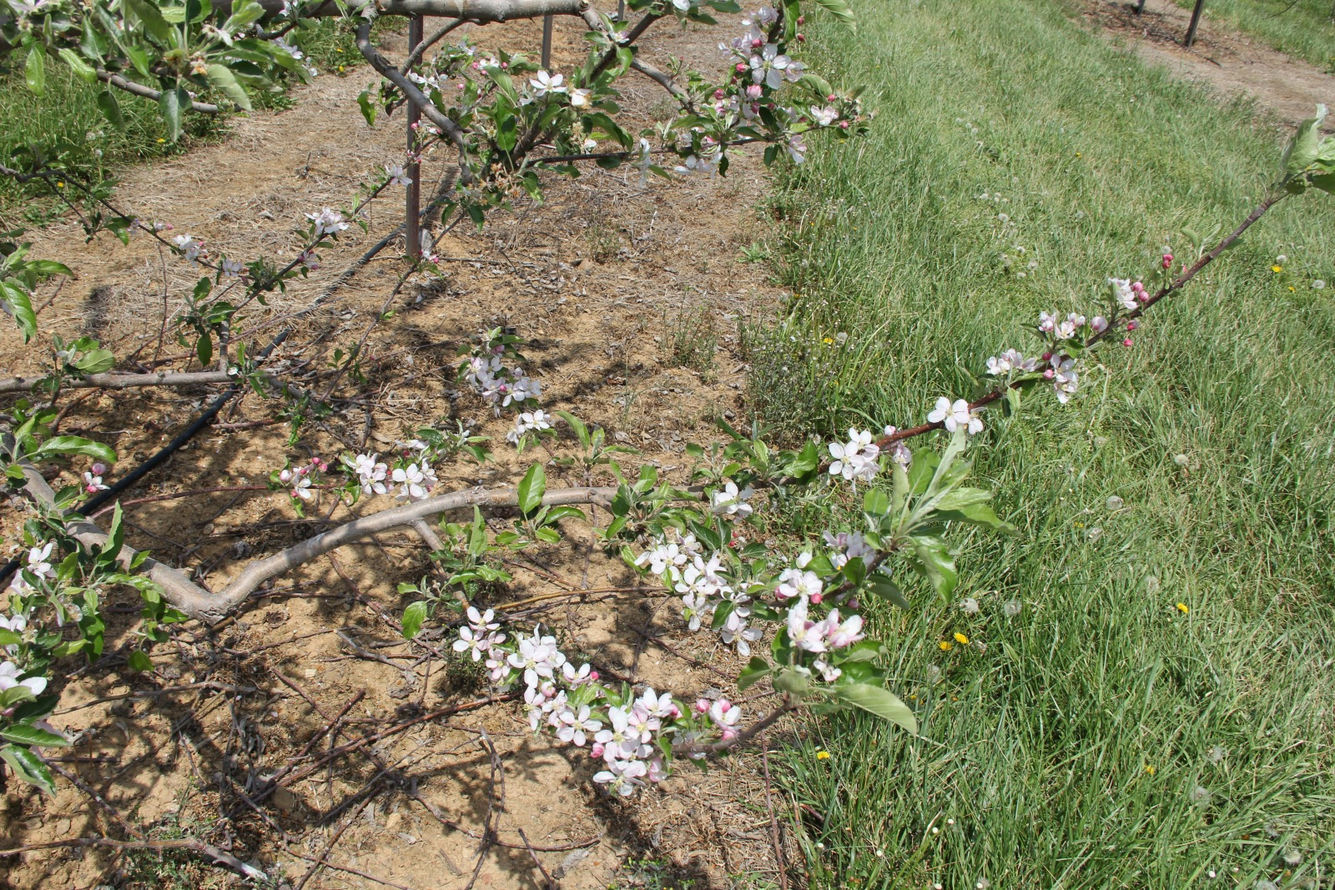flower: (452, 606, 602, 747), (634, 528, 734, 631), (728, 6, 809, 121), (591, 688, 675, 797), (779, 569, 863, 651), (463, 355, 552, 407), (829, 426, 884, 480), (10, 541, 58, 599), (390, 458, 439, 504), (530, 70, 591, 106), (928, 396, 984, 435), (825, 531, 879, 570), (696, 698, 748, 738), (713, 607, 755, 656), (345, 450, 388, 495), (506, 410, 557, 447), (0, 661, 47, 696), (986, 349, 1044, 376), (305, 206, 356, 235), (673, 148, 723, 177), (1050, 354, 1079, 404), (280, 462, 315, 500), (1109, 279, 1150, 309), (1054, 304, 1086, 341), (172, 234, 204, 269), (83, 464, 113, 492), (407, 69, 441, 91), (786, 134, 808, 165), (385, 164, 413, 188), (811, 104, 840, 126), (392, 435, 431, 450), (223, 259, 249, 279), (715, 482, 738, 503), (728, 501, 754, 519), (0, 614, 24, 632), (1039, 312, 1057, 332), (476, 56, 500, 70), (739, 483, 757, 501), (1091, 315, 1108, 333), (304, 251, 319, 269), (735, 592, 751, 604), (838, 555, 848, 566), (585, 139, 597, 148), (705, 155, 713, 158), (314, 206, 321, 209), (285, 482, 288, 486)
